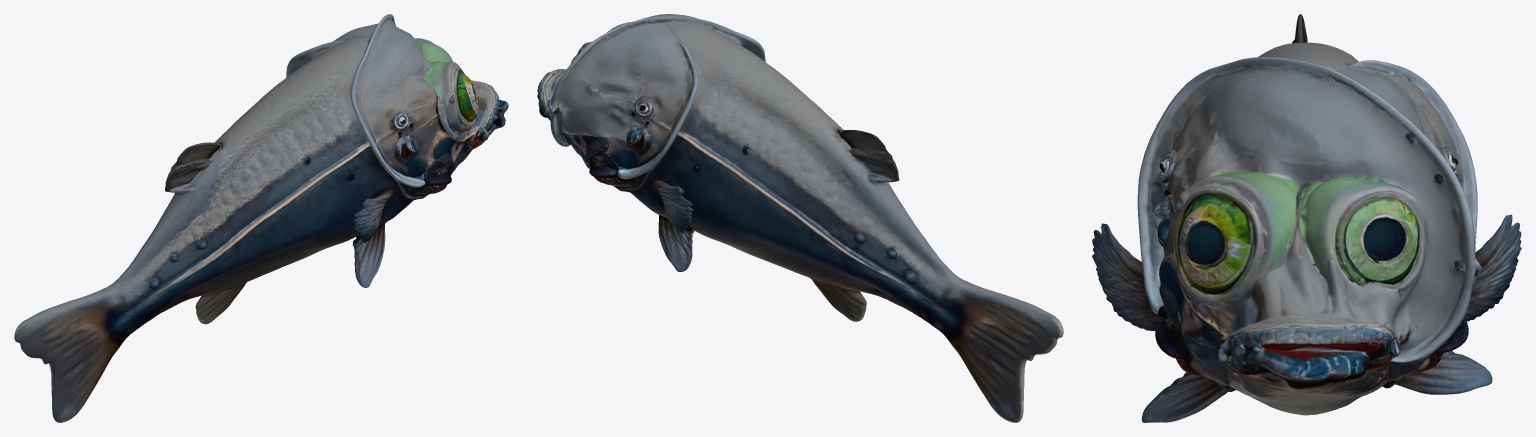
Rendered from barreleye.glb.
3 renders of one model, left to right at view 1: azimuth 30°, elevation 25°; view 2: azimuth 150°, elevation 25°; view 3: azimuth 270°, elevation 25°, orthographic. The views are drawn at different scales.
Visible parts, largest first — view 1: tripo_node_ee1b108c-4d41-41be-b594-1edf0cc735cb; view 2: tripo_node_ee1b108c-4d41-41be-b594-1edf0cc735cb; view 3: tripo_node_ee1b108c-4d41-41be-b594-1edf0cc735cb.
Boxes of the visible parts, <box> form: tripo_node_ee1b108c-4d41-41be-b594-1edf0cc735cb: <box>14,14,508,422</box>; tripo_node_ee1b108c-4d41-41be-b594-1edf0cc735cb: <box>537,14,1063,422</box>; tripo_node_ee1b108c-4d41-41be-b594-1edf0cc735cb: <box>1092,14,1521,422</box>.
Size of the model in its own units: 0.9814 by 0.5901 by 0.3847.
1 material, 1 textured.
